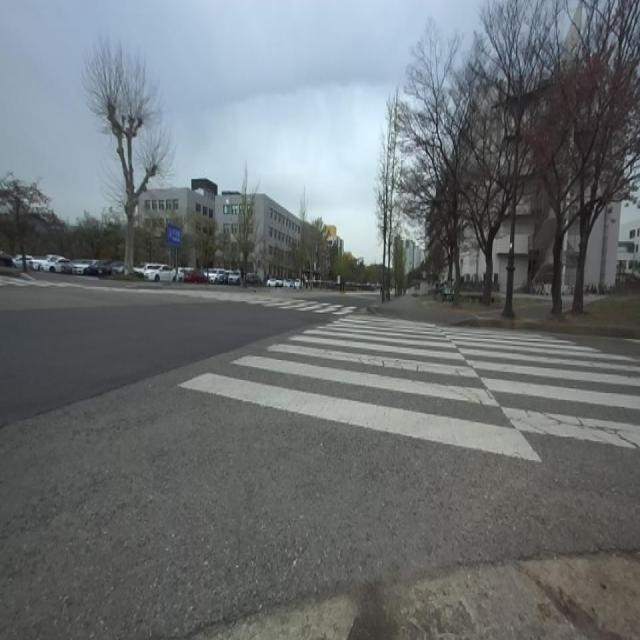sidewalk: (216, 556, 640, 640), (366, 295, 562, 325)
